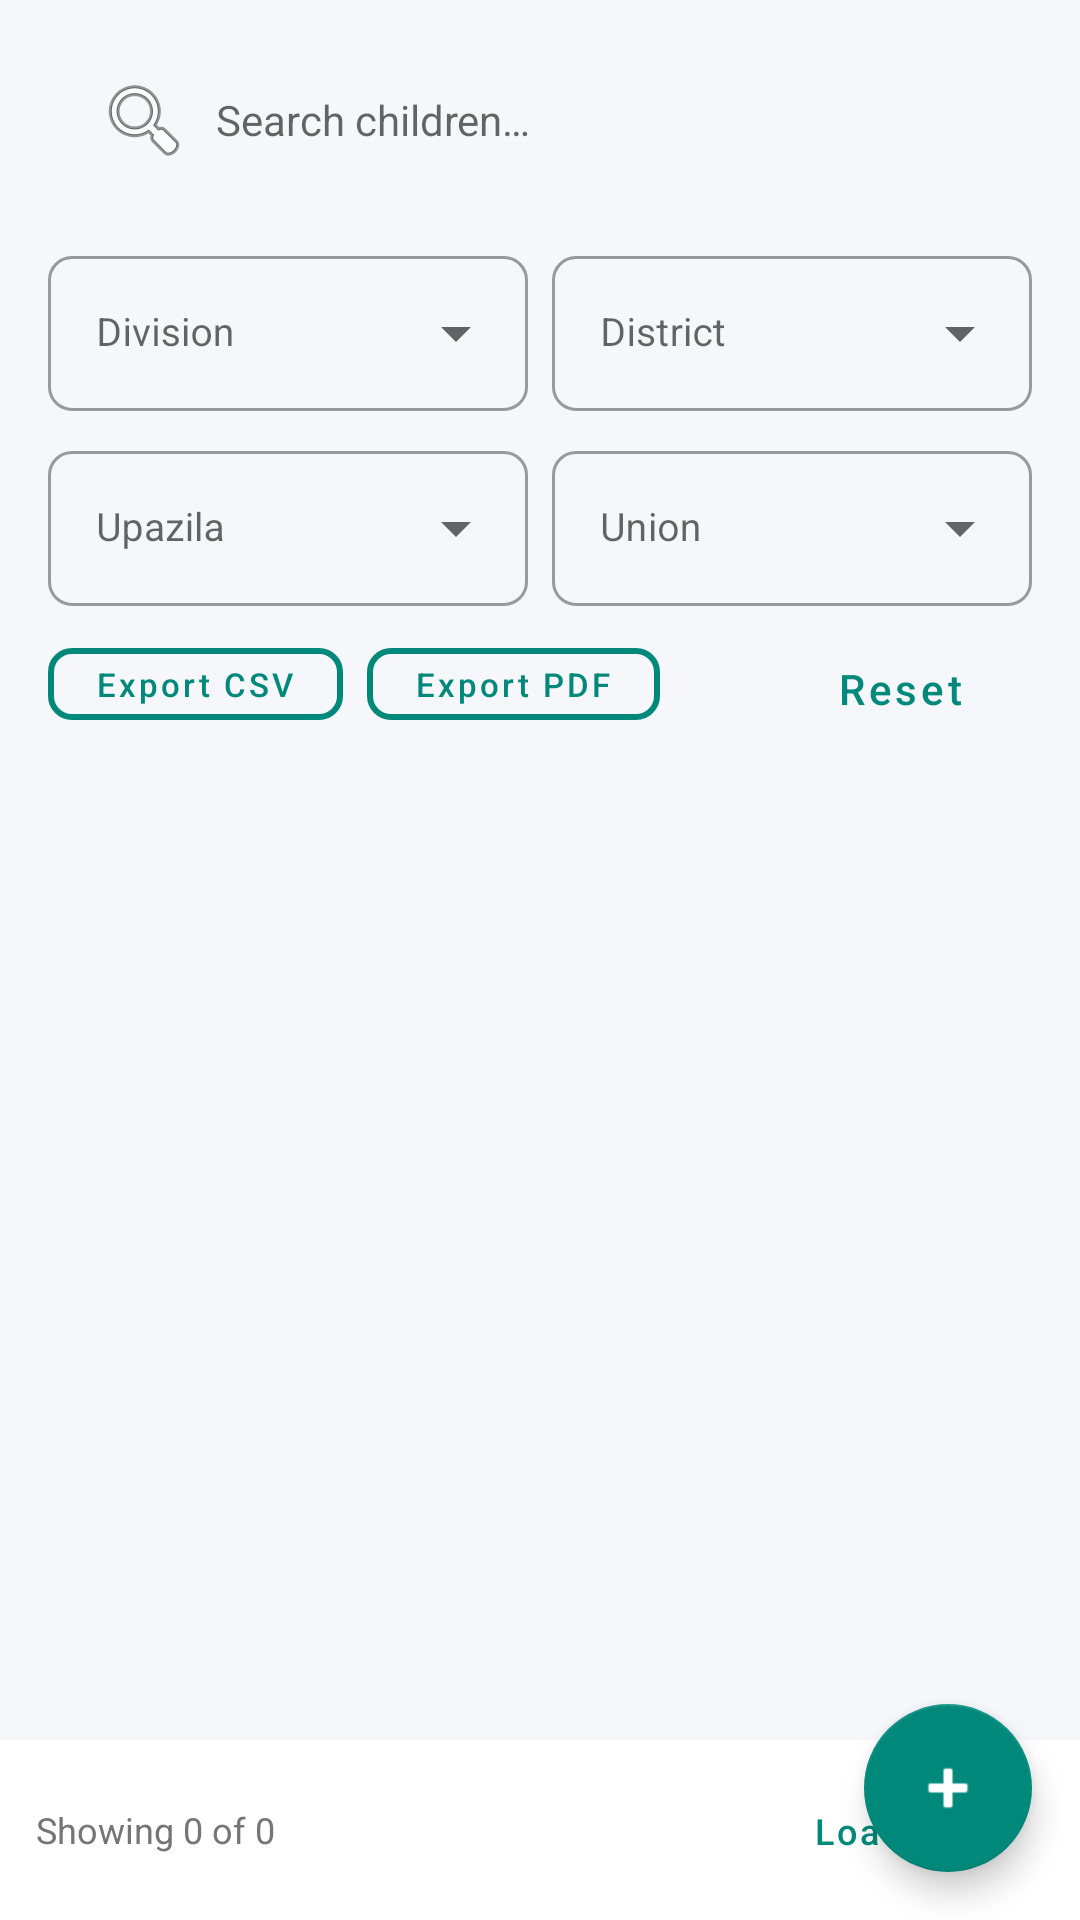

Icons on this 1080px x 1920px Android screen, each with the point to tap as (x,y):
Add New: (948,1788)
